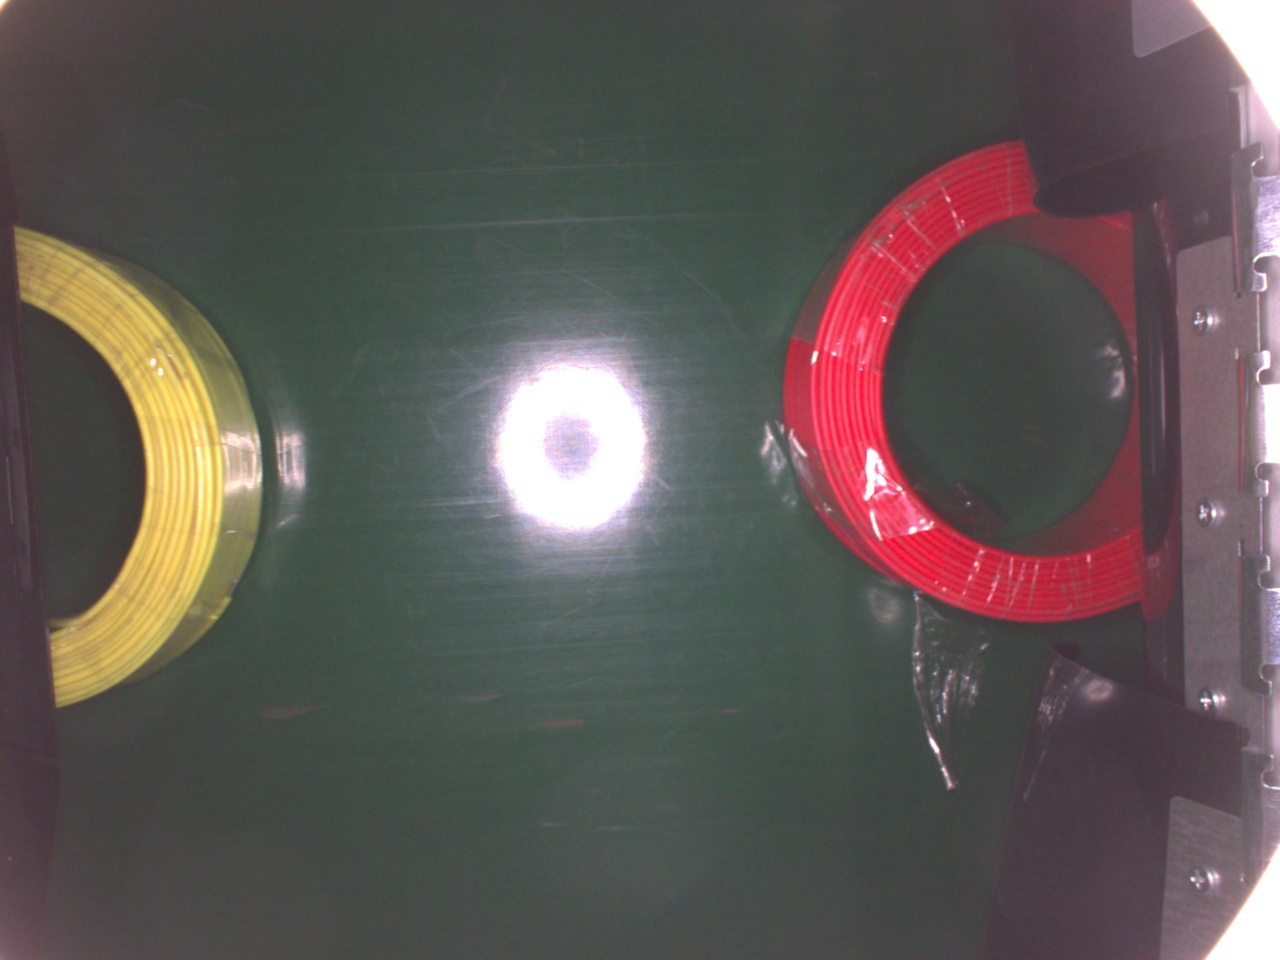red: (780, 136, 1167, 628)
yellow: (16, 221, 268, 711)
